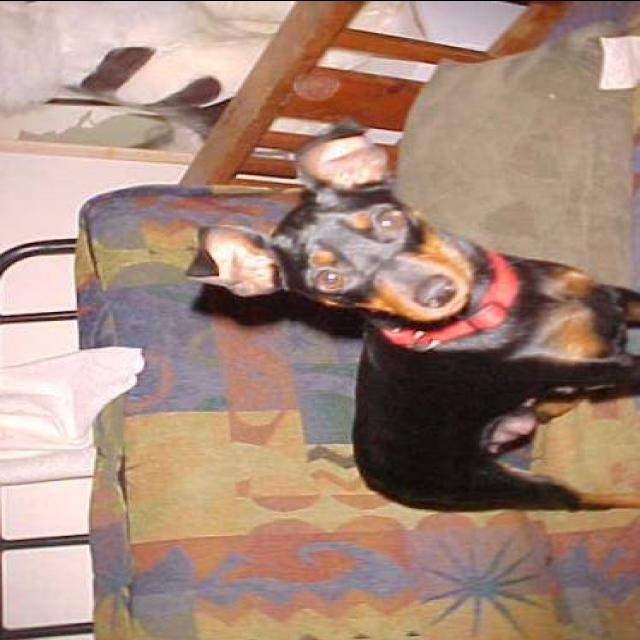dog: (179, 122, 640, 531)
